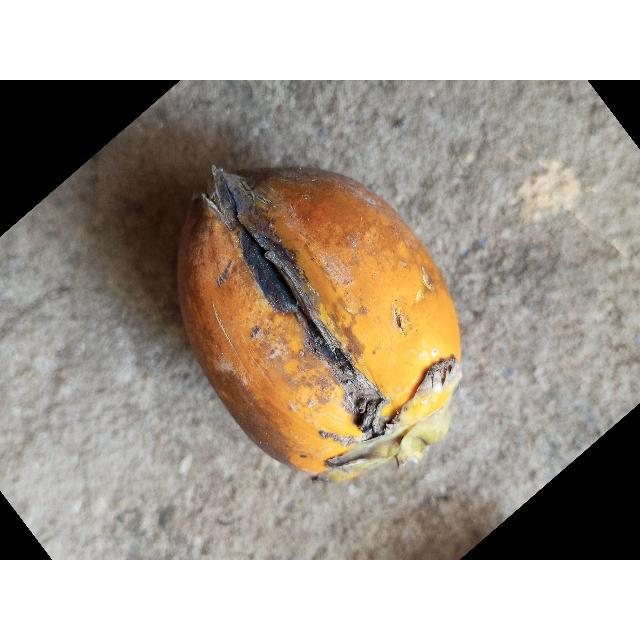damaged: (174, 167, 463, 483)
